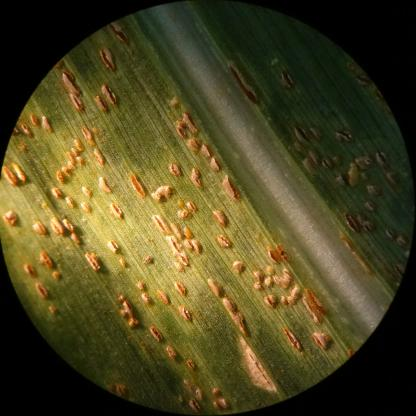corn rust leaf: (8, 13, 412, 398)
